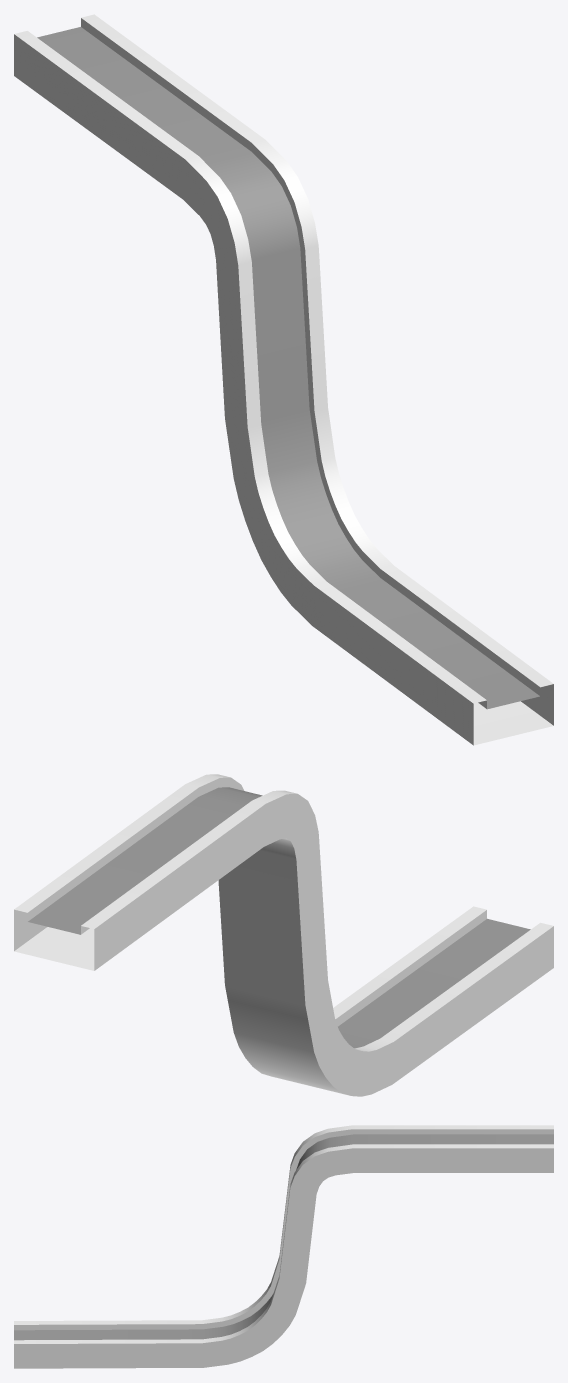
File: rd_down.fbx
The picture shows the model from 3 angles, top to bottom: view 1: azimuth 30°, elevation 25°; view 2: azimuth 150°, elevation 25°; view 3: azimuth 270°, elevation 25°; orthographic projection. The views are drawn at different scales.
Visible parts, largest first — view 1: d; view 2: d; view 3: d.
Part boxes in pixels (x1=…): d: x1=14, y1=14, x2=553, y2=745; d: x1=14, y1=774, x2=553, y2=1096; d: x1=14, y1=1125, x2=553, y2=1368.
Bounding box in the file's own units: 244 × 1087 × 2414.
